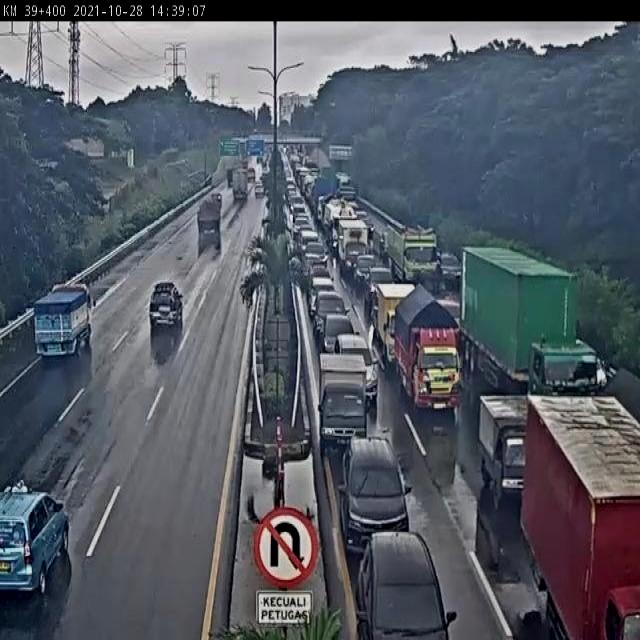Car: (353, 528, 457, 640), (335, 435, 414, 558), (0, 478, 70, 596), (333, 333, 378, 402), (312, 288, 352, 340), (148, 280, 184, 332), (320, 311, 360, 357), (308, 274, 336, 318), (365, 264, 394, 302), (305, 259, 333, 297), (434, 249, 464, 282), (352, 252, 376, 286), (302, 242, 331, 266), (298, 230, 322, 258), (291, 216, 312, 240), (290, 202, 310, 224), (254, 182, 265, 199)
Truck: (520, 391, 640, 640), (458, 242, 601, 404), (393, 280, 462, 411), (477, 391, 530, 513), (315, 352, 371, 452), (32, 281, 97, 360), (369, 282, 415, 374), (385, 221, 439, 284), (337, 218, 370, 276), (322, 197, 358, 250), (196, 196, 222, 235), (310, 176, 332, 222), (231, 167, 249, 202), (336, 185, 357, 203), (226, 168, 234, 188), (248, 166, 256, 181)
